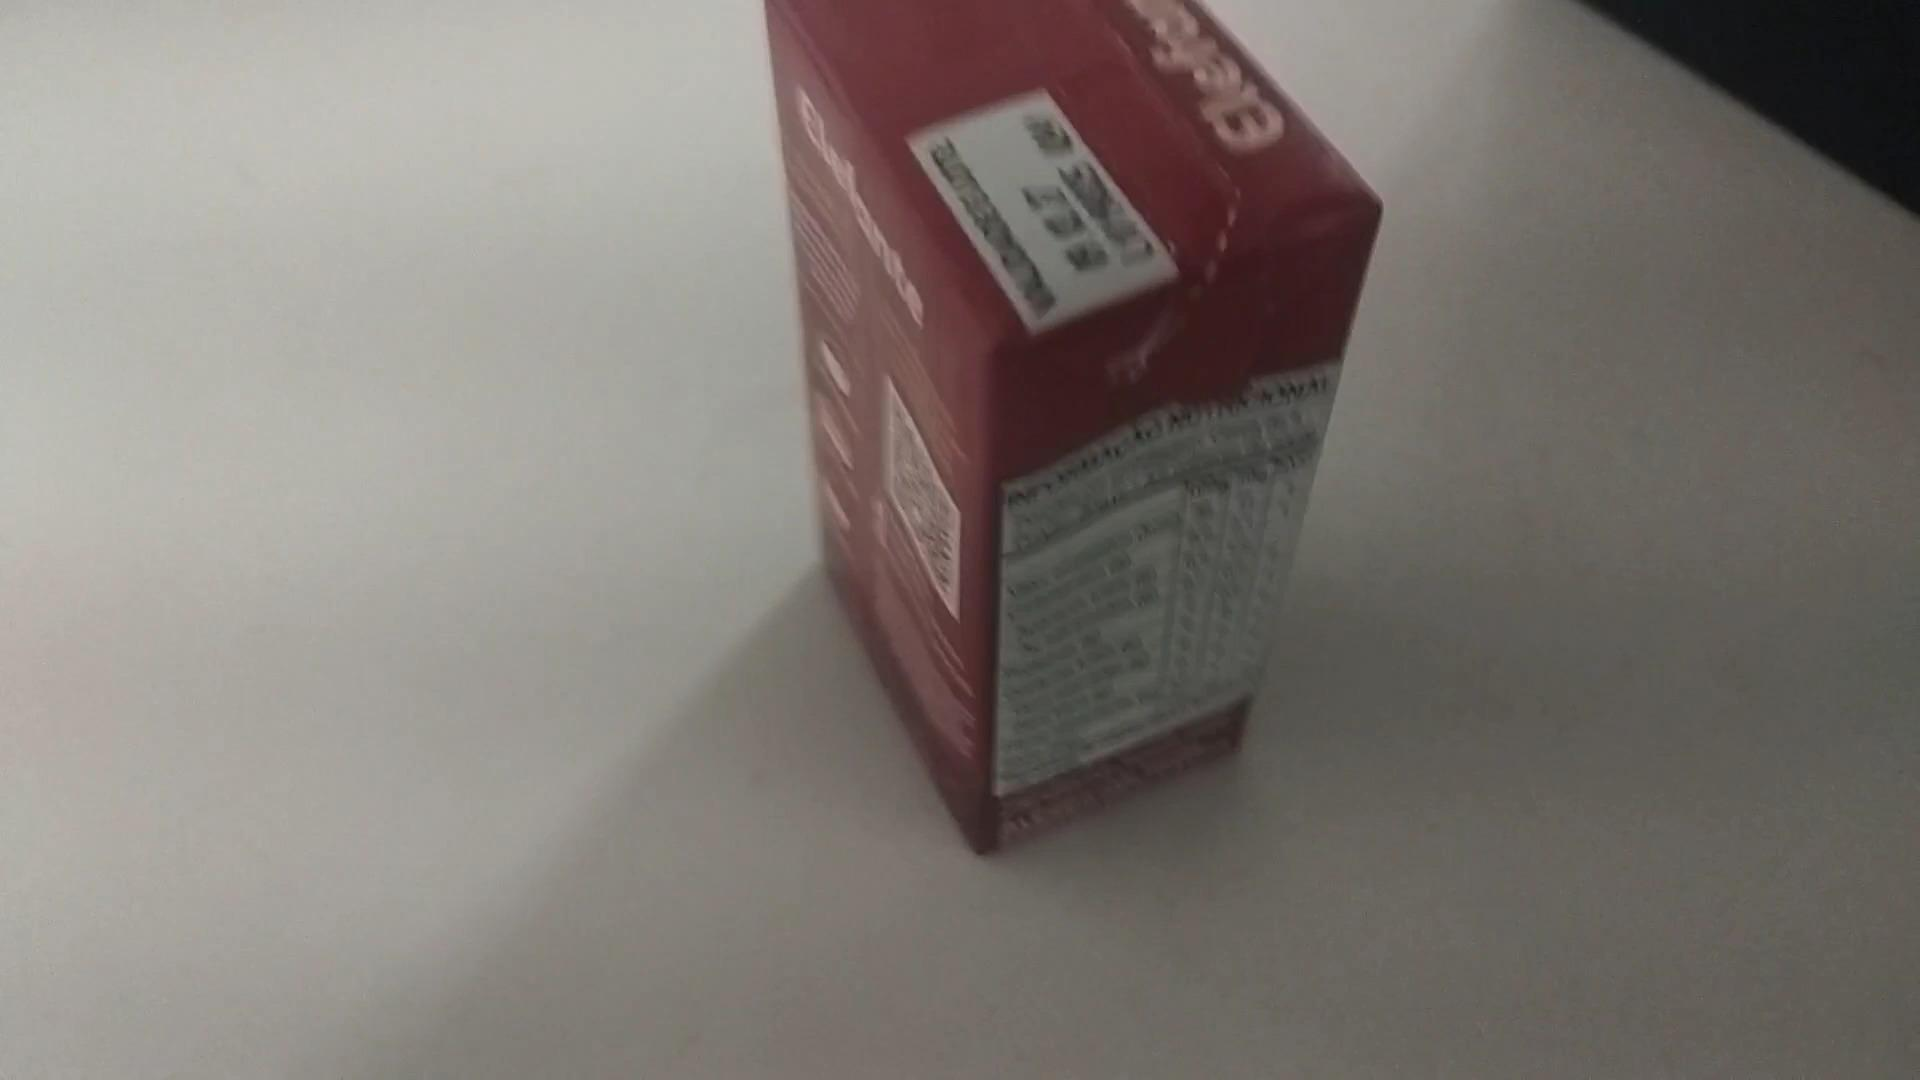tomate: (745, 0, 1393, 858)
